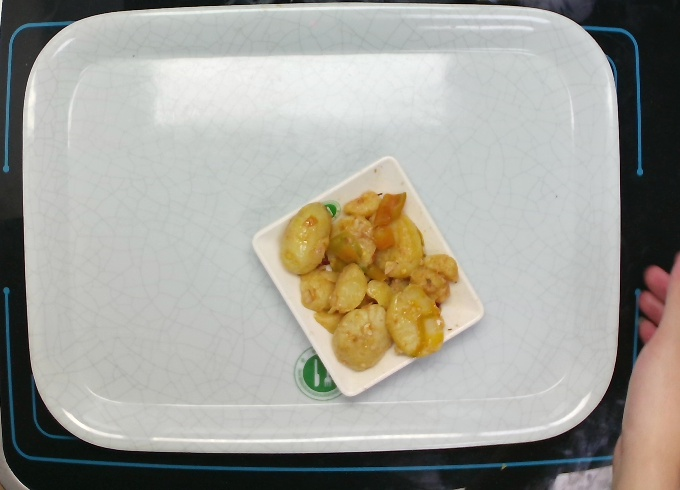WCQzf-Bai_Se_Si_Fang_Die: (247, 155, 485, 397)
